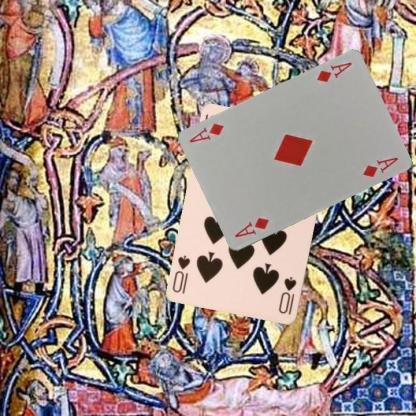10s: (276, 274, 298, 316)
Ad: (232, 215, 271, 239), (314, 60, 353, 84)
